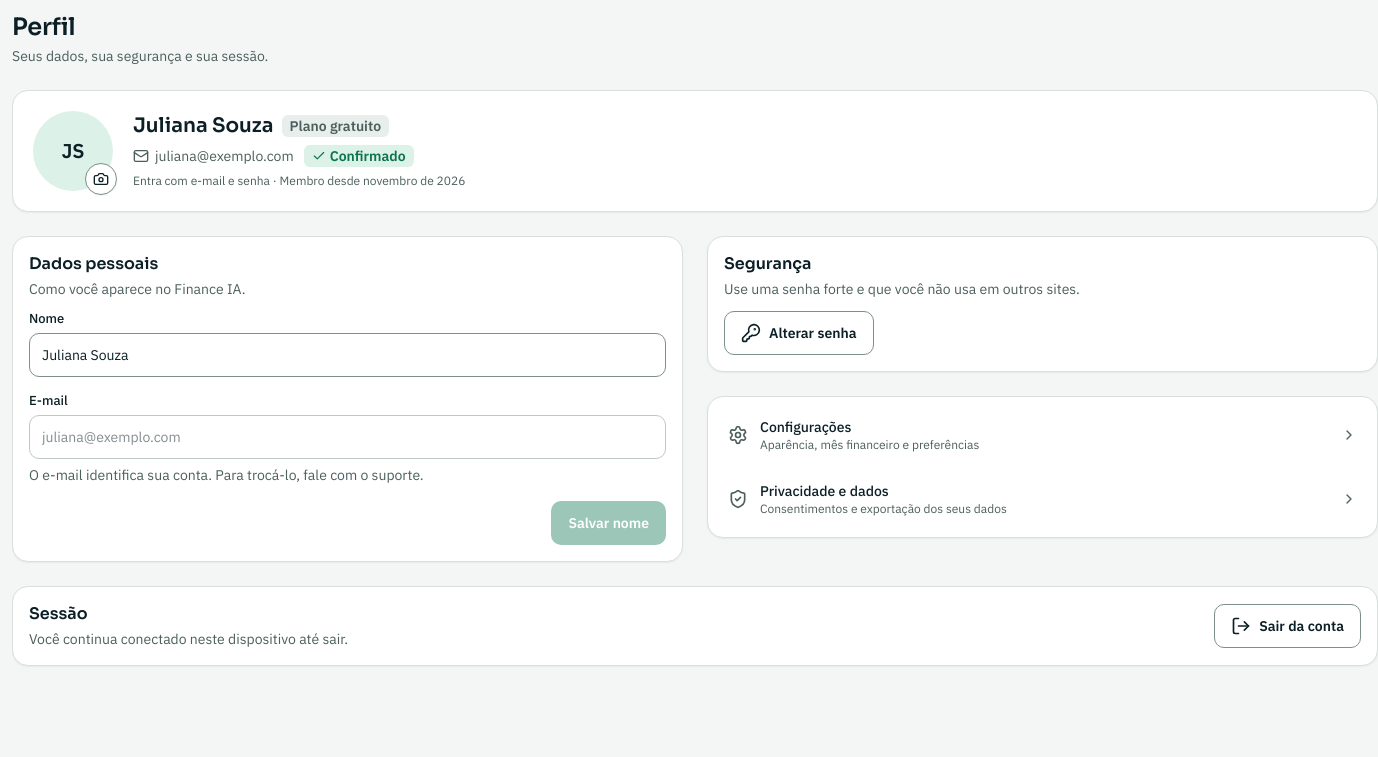
Test: Perfil › abre a troca de senha e valida a confirmação
This screenshot has width=1378, height=757.
Expected: the heading "Juliana Souza" is shown, [133,113,274,139]
Click the button "Alterar senha" at [799, 333], box [724,311,874,355]
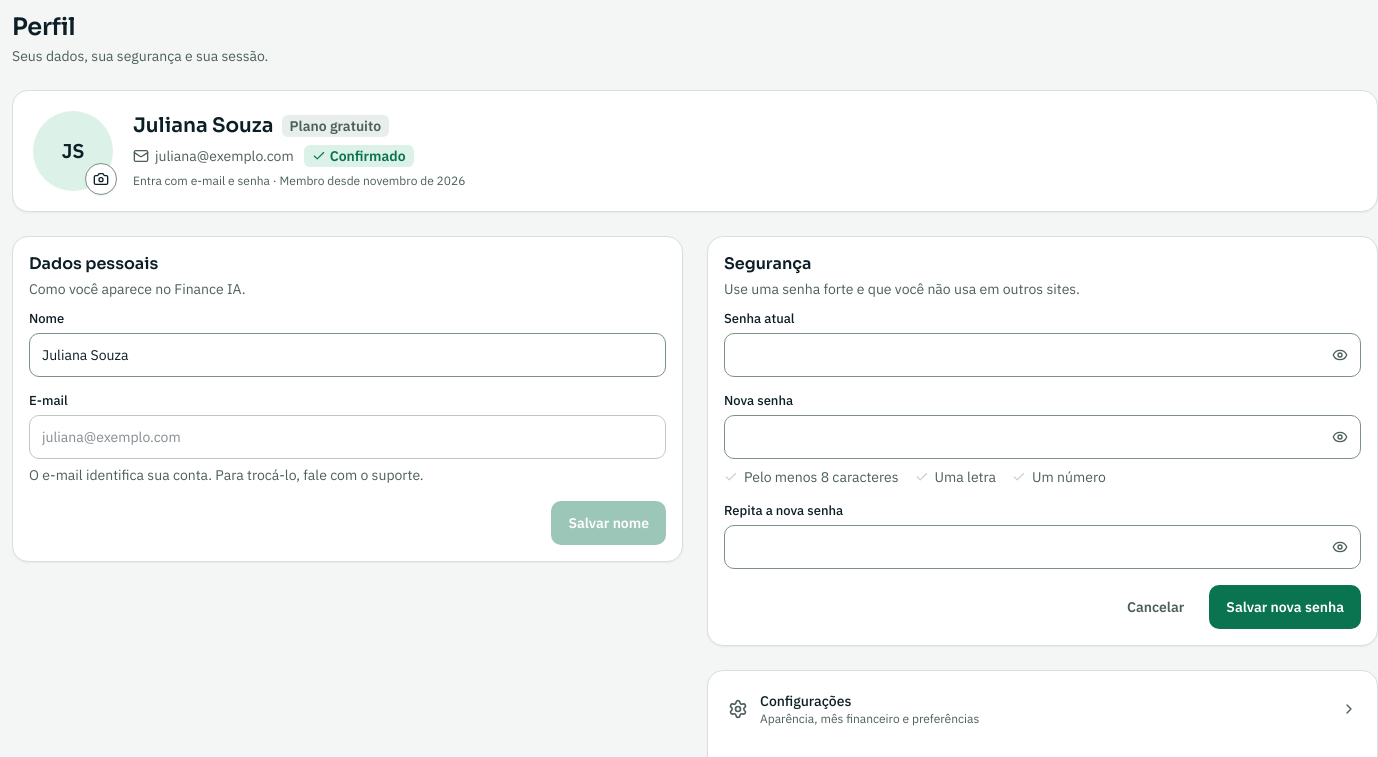
Type "financas2026" into the password field labelled "Senha atual" at [1026, 355], box [737,334,1316,376]
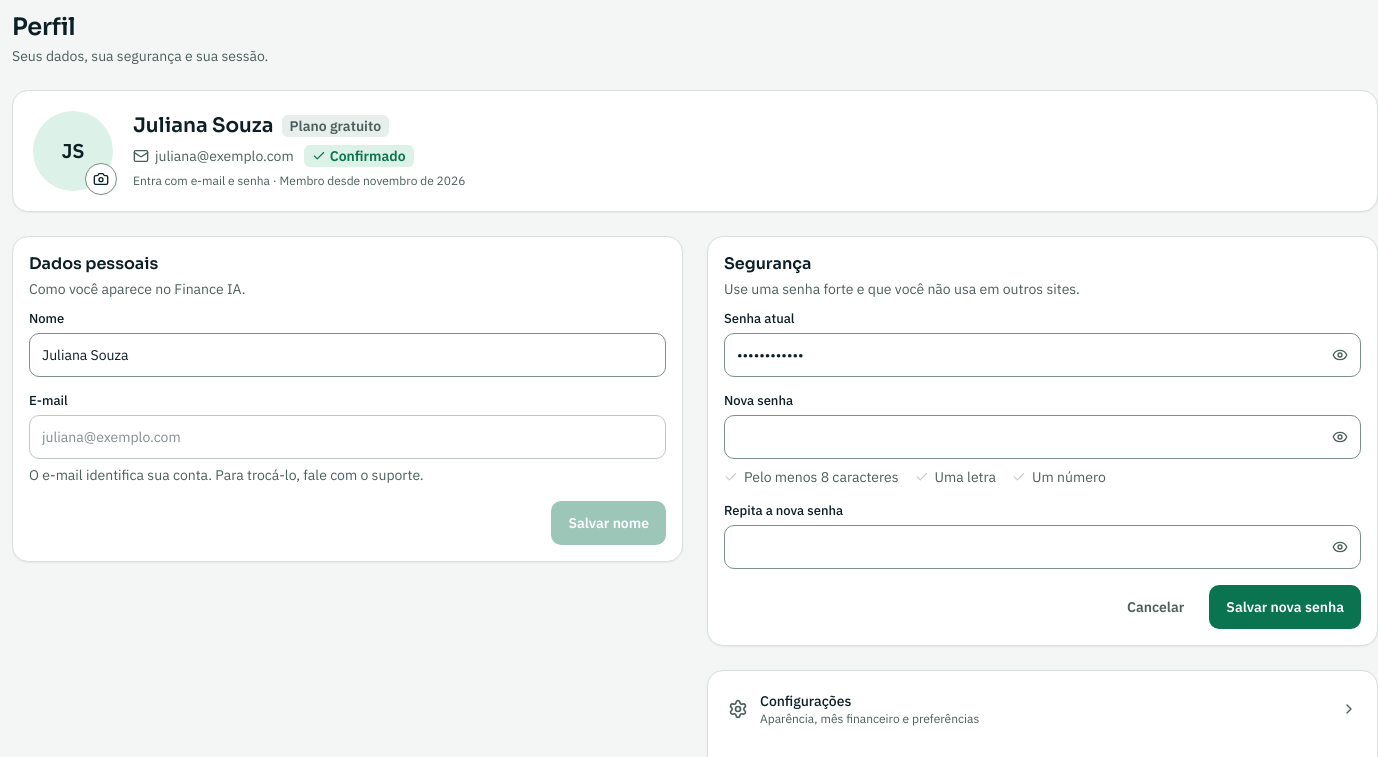
Type "novasenha2027" into the password field labelled "Nova senha" at [1026, 437], box [737,416,1316,458]
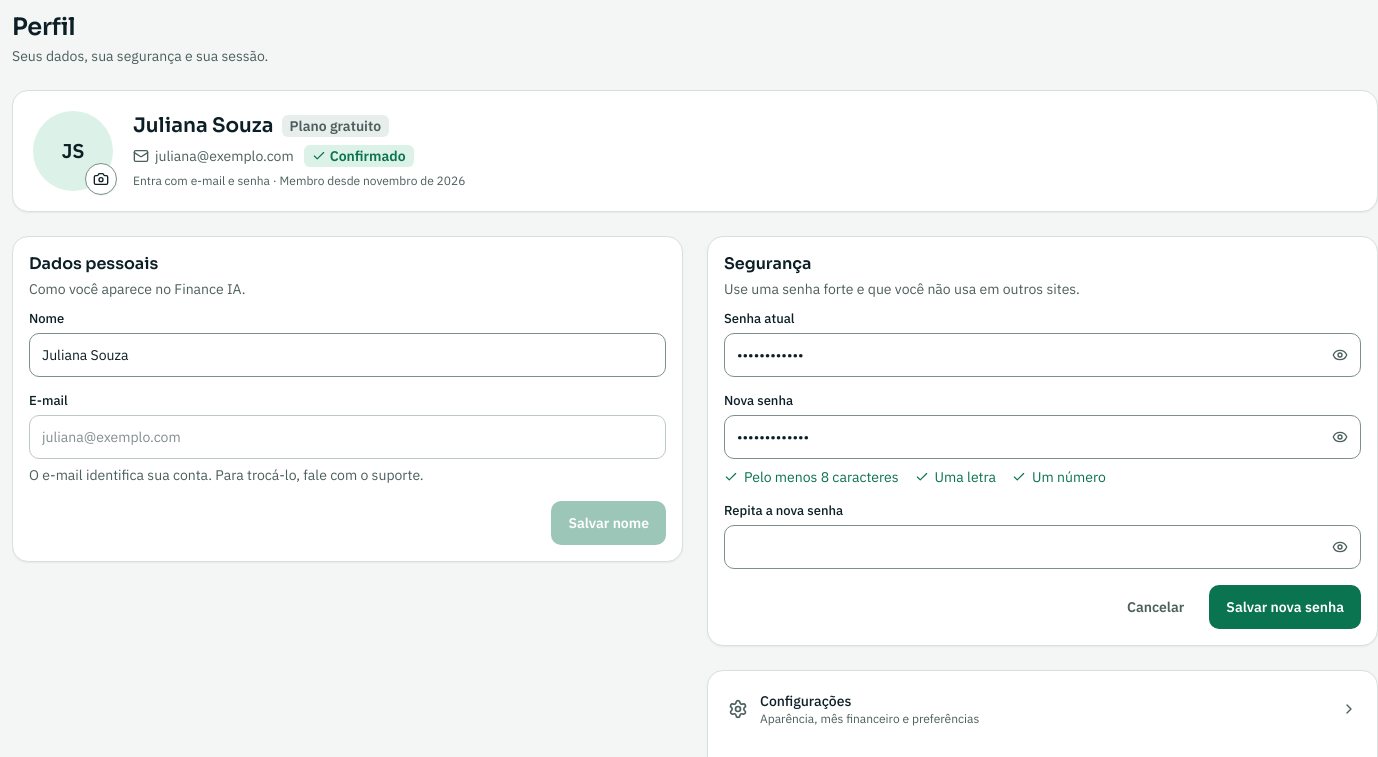
Type "outra2027" into the password field labelled "Repita a nova senha" at [1026, 547], box [737,526,1316,568]
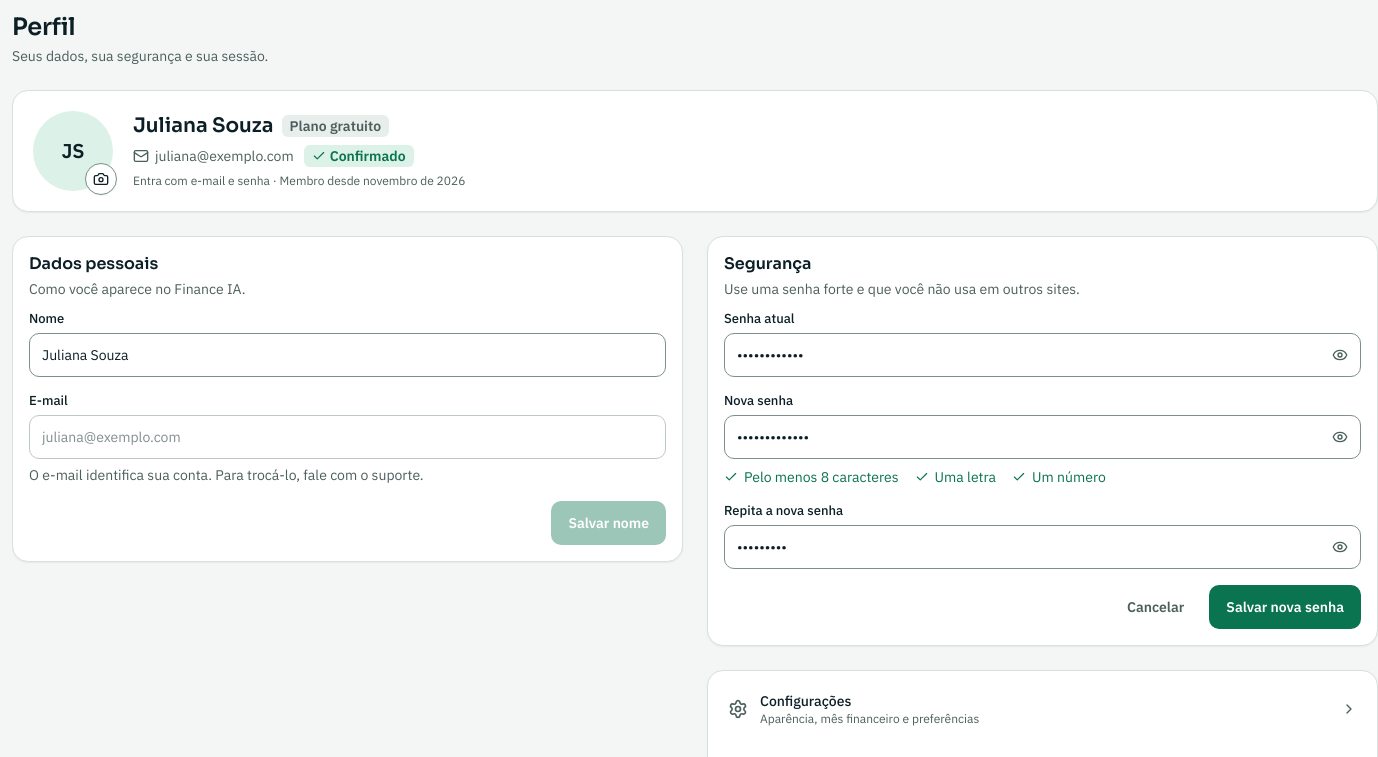
Click the button "Salvar nova senha" at [1285, 607], box [1209,585,1361,629]
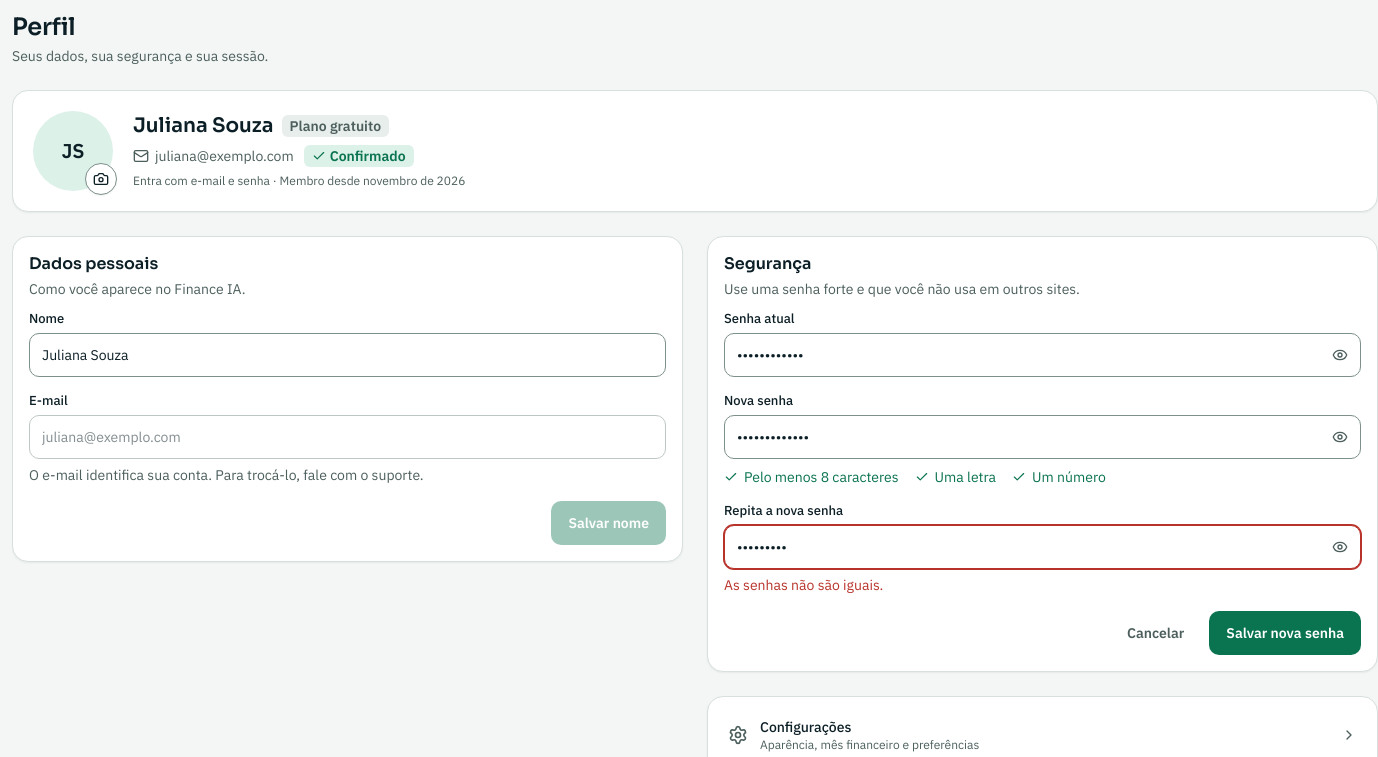
Expected: the text "As senhas não são iguais." is shown, [724,576,883,594]
